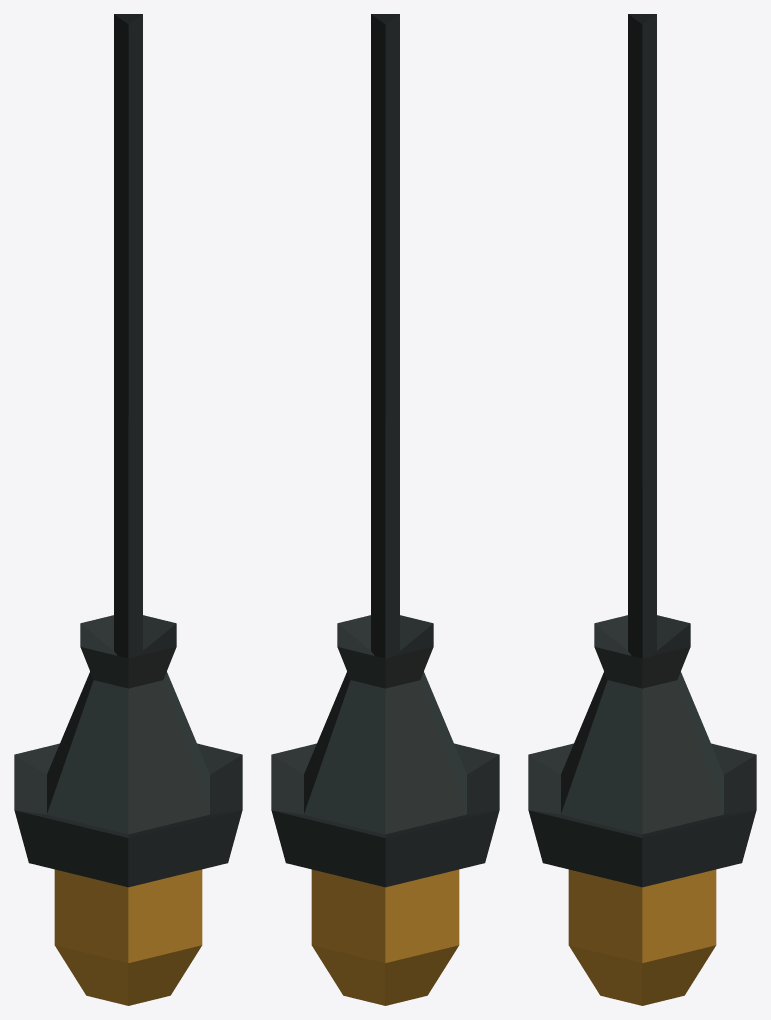
The model's file is TB_CITY_Prop_Streetlamp_B.FBX.
The picture shows the model from 3 angles, left to right: view 1: azimuth 30°, elevation 25°; view 2: azimuth 150°, elevation 25°; view 3: azimuth 270°, elevation 25°; orthographic projection.
Visible parts, largest first — view 1: TB_CITY_Prop_Streetlamp_B; view 2: TB_CITY_Prop_Streetlamp_B; view 3: TB_CITY_Prop_Streetlamp_B.
Boxes of the visible parts, bbox=[...] form: TB_CITY_Prop_Streetlamp_B: bbox=[14, 14, 242, 1005]; TB_CITY_Prop_Streetlamp_B: bbox=[271, 14, 499, 1005]; TB_CITY_Prop_Streetlamp_B: bbox=[528, 14, 756, 1005].
Size of the model in its own units: 0.3339 by 1.35 by 0.2892.
